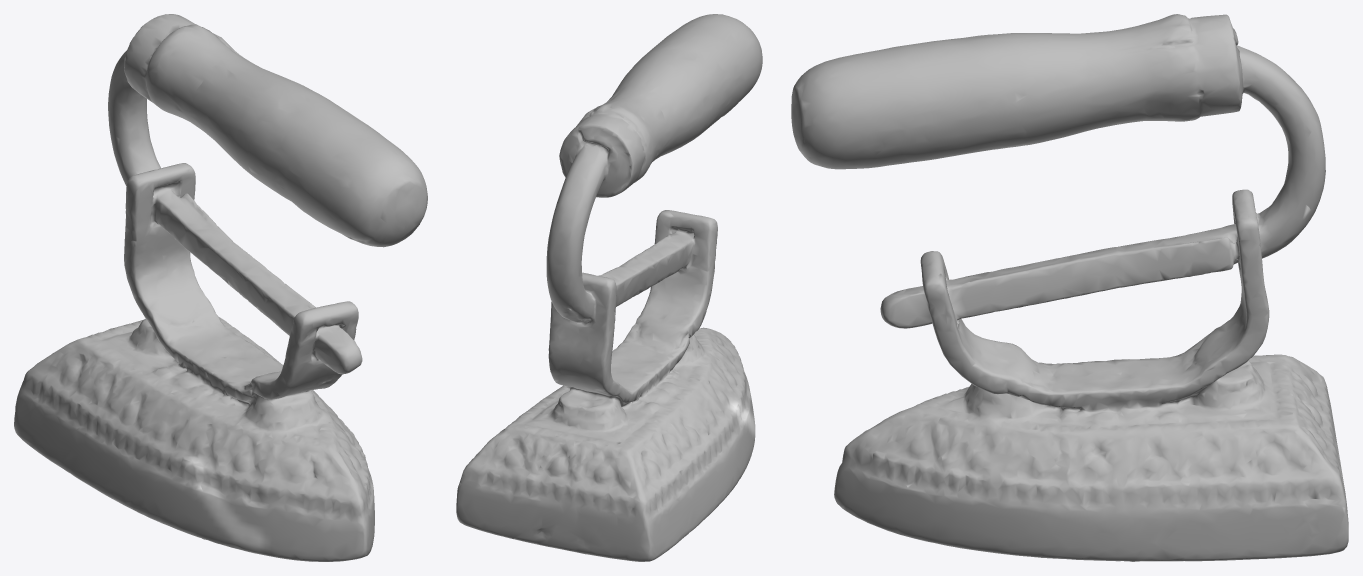
3 renders of one model, left to right at view 1: azimuth 30°, elevation 25°; view 2: azimuth 150°, elevation 25°; view 3: azimuth 270°, elevation 25°, orthographic. The views are drawn at different scales.
Visible parts, largest first — view 1: object; view 2: object; view 3: object.
Part boxes in pixels (box(x1,y1,x2,y2)): object: box(14, 14, 427, 561); object: box(456, 14, 762, 561); object: box(791, 14, 1348, 561).
Size of the model in its own units: 45.88 by 89.76 by 92.56.
1 material, 1 textured.
